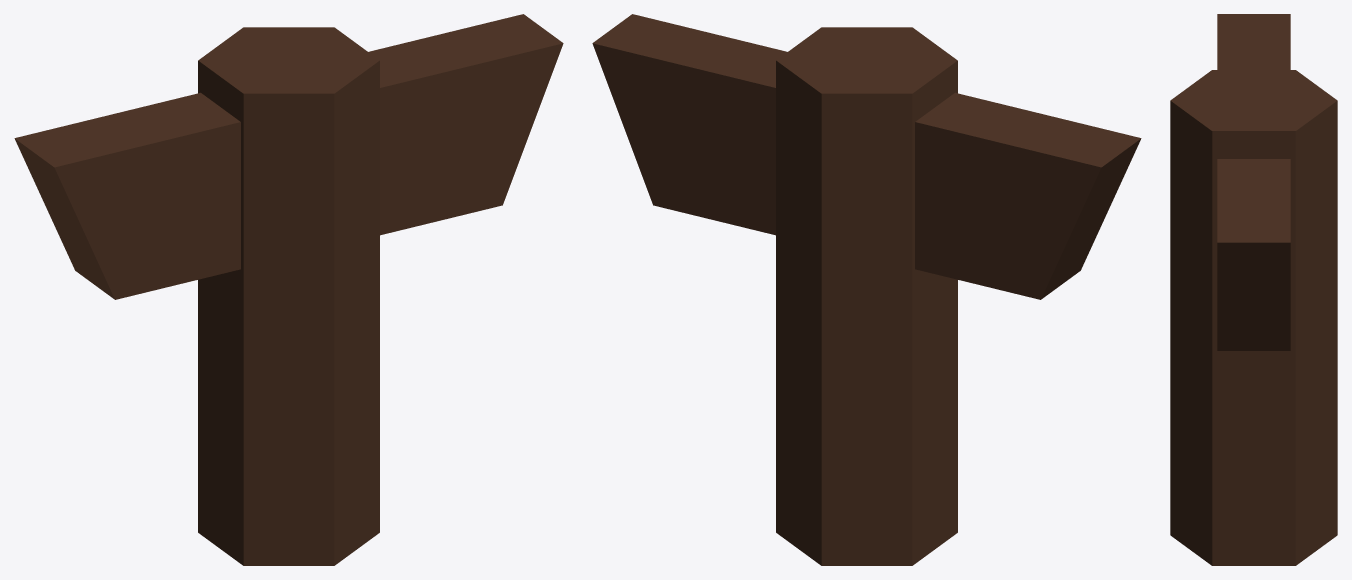
File: Totem_teir1.fbx
3 renders of one model, left to right at view 1: azimuth 30°, elevation 25°; view 2: azimuth 150°, elevation 25°; view 3: azimuth 270°, elevation 25°, orthographic. The views are drawn at different scales.
Parts seen in each view (by area): view 1: Cylinder.003; view 2: Cylinder.003; view 3: Cylinder.003.
Boxes of the visible parts, box(x1,y1,x2,y2) form: Cylinder.003: box(14, 14, 563, 565); Cylinder.003: box(592, 14, 1141, 565); Cylinder.003: box(1170, 14, 1337, 565).
Size of the model in its own units: 375 by 332 by 116.
